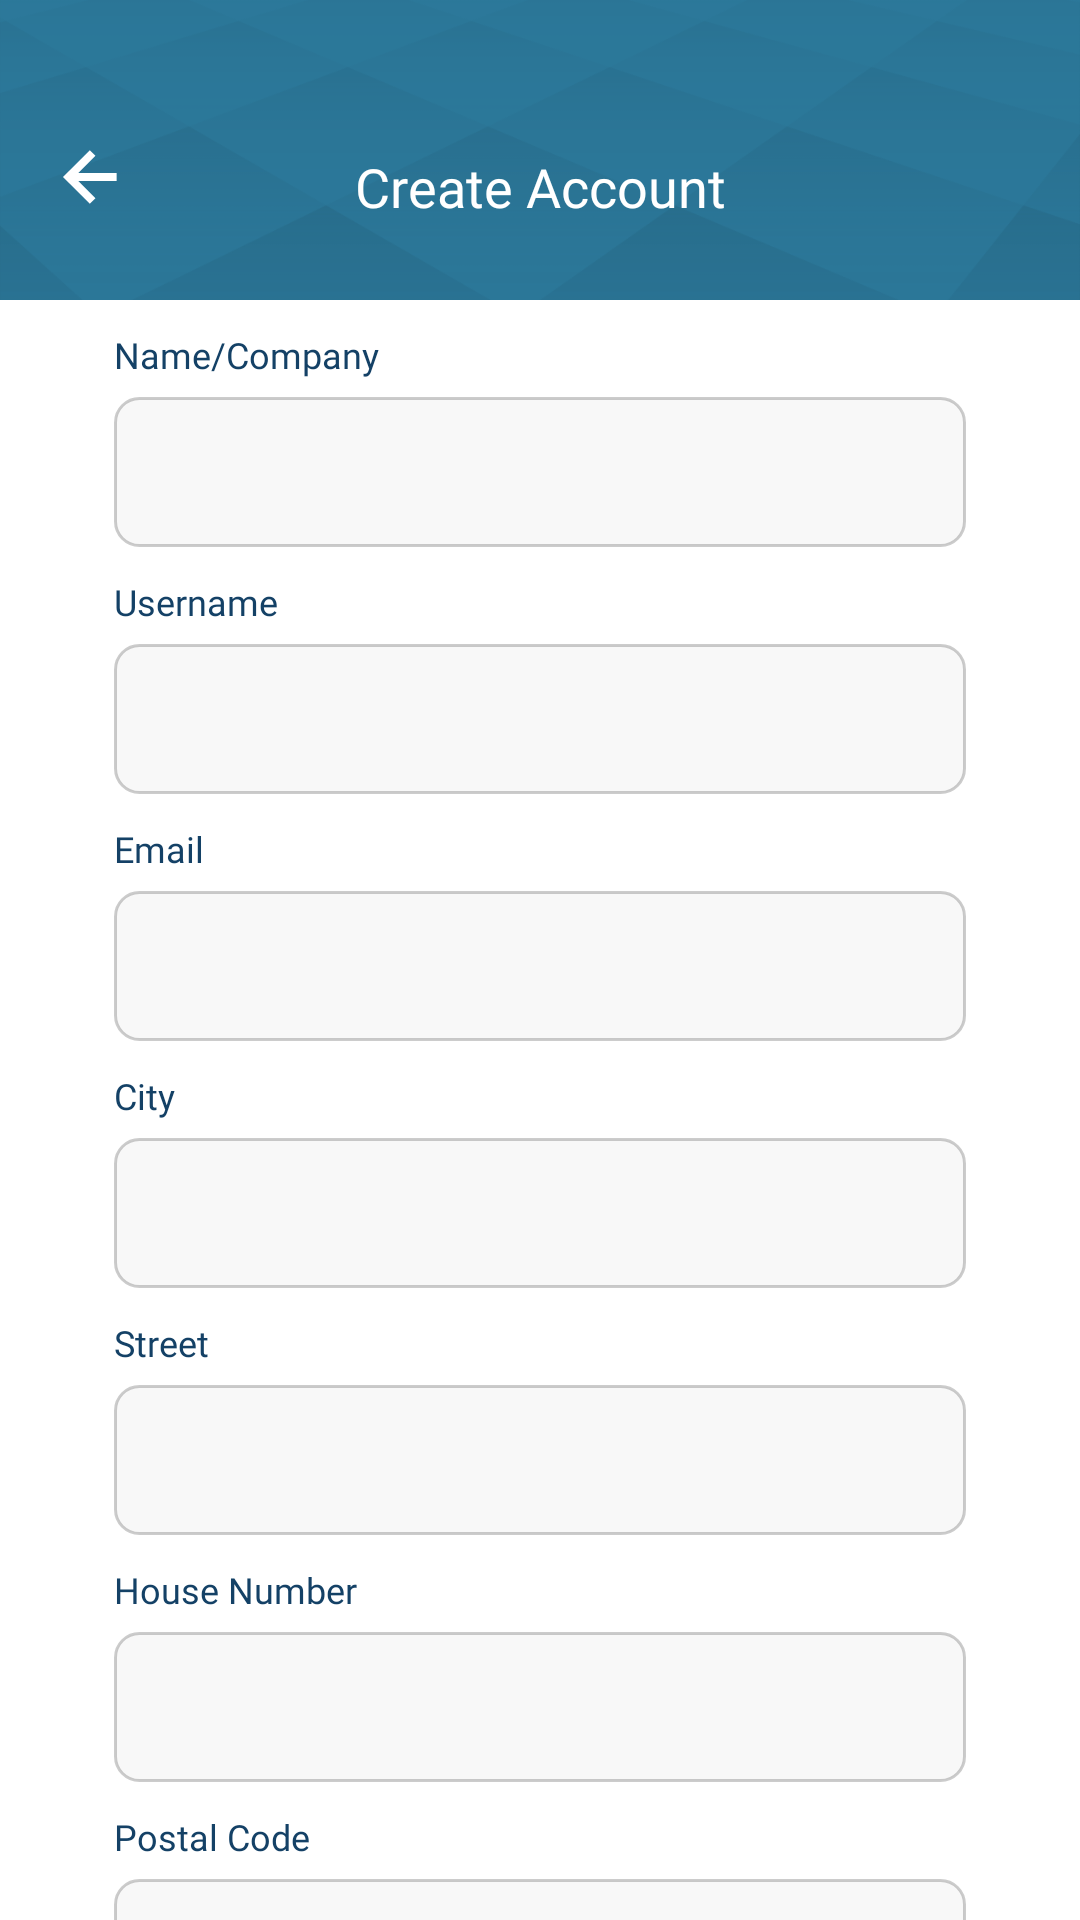

Screen size 1080 x 1920. Icon name, then its box in pixels as (left=x1, top=y1, right=x2, bottom=y2):
back: (left=63, top=150, right=117, bottom=204)
